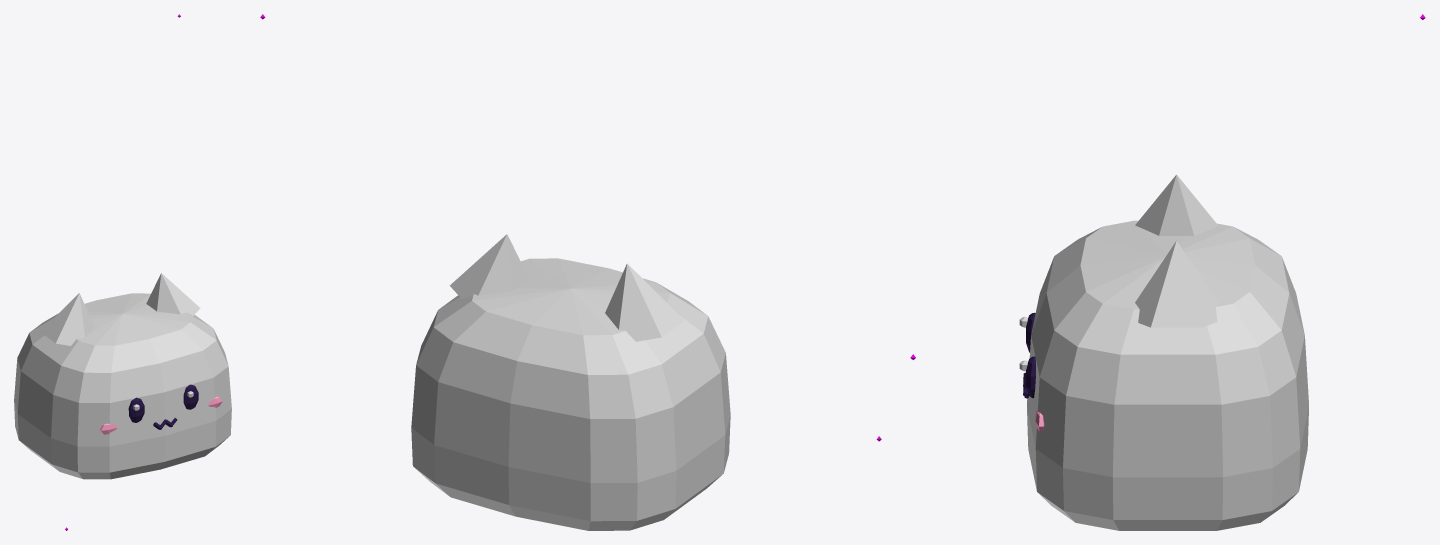
Rendered from body_loaf.fbx.
3 renders of one model, left to right at view 1: azimuth 30°, elevation 25°; view 2: azimuth 150°, elevation 25°; view 3: azimuth 270°, elevation 25°, orthographic. The views are drawn at different scales.
Visible parts, largest first — view 1: Body, Eyes; view 2: Body; view 3: Body.
Part boxes in pixels (x1,y1,x2,y2): Body: [14, 273, 231, 479]; Eyes: [128, 384, 198, 422]; Body: [411, 234, 730, 530]; Body: [1027, 174, 1308, 530].
Bounding box in the file's own units: 2.99 × 3.6 × 2.99.
